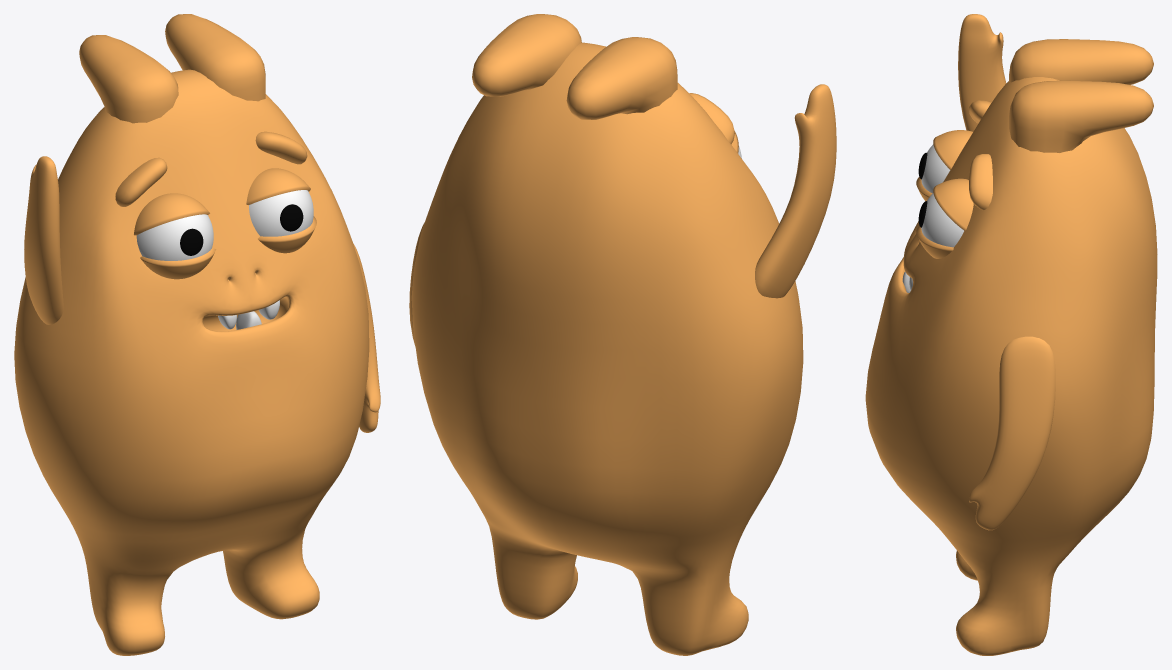
The model's file is garsone-01.glb.
The picture shows the model from 3 angles, left to right: view 1: azimuth 30°, elevation 25°; view 2: azimuth 150°, elevation 25°; view 3: azimuth 270°, elevation 25°; orthographic projection. The views are drawn at different scales.
Visible parts, largest first — view 1: Cube.123, Cube.110, Cube.109, Cube.126, Cube.128, Cube.129, Cube.107; view 2: Cube.123, Cube.126, Cube.110, Cube.109; view 3: Cube.123, Cube.107, Cube.109, Cube.110, Cube.126, Cube.128, Cube.129.
Boxes of the visible parts, box(x1,y1,x2,y2) form: Cube.123: box(14, 69, 369, 655); Cube.110: box(79, 35, 178, 123); Cube.109: box(165, 14, 265, 101); Cube.126: box(24, 156, 63, 324); Cube.128: box(134, 168, 310, 235); Cube.129: box(140, 216, 316, 279); Cube.107: box(353, 244, 380, 432); Cube.123: box(411, 42, 803, 655); Cube.126: box(755, 84, 836, 298); Cube.110: box(566, 37, 677, 119); Cube.109: box(472, 14, 581, 96); Cube.123: box(865, 77, 1157, 655); Cube.107: box(969, 336, 1055, 530); Cube.109: box(1009, 80, 1153, 152); Cube.110: box(1009, 39, 1153, 84); Cube.126: box(958, 14, 1006, 131); Cube.128: box(933, 130, 973, 231); Cube.129: box(916, 177, 953, 258).
Bounding box in the file's own units: 2.34 × 3.49 × 1.68.
